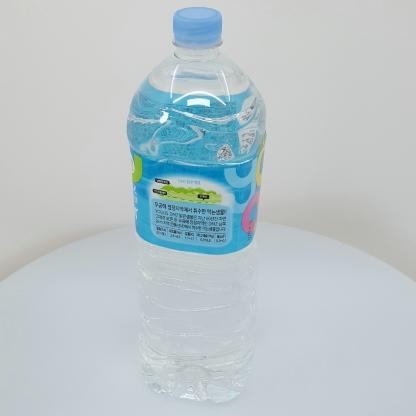--------1-5L: (126, 7, 267, 403)
